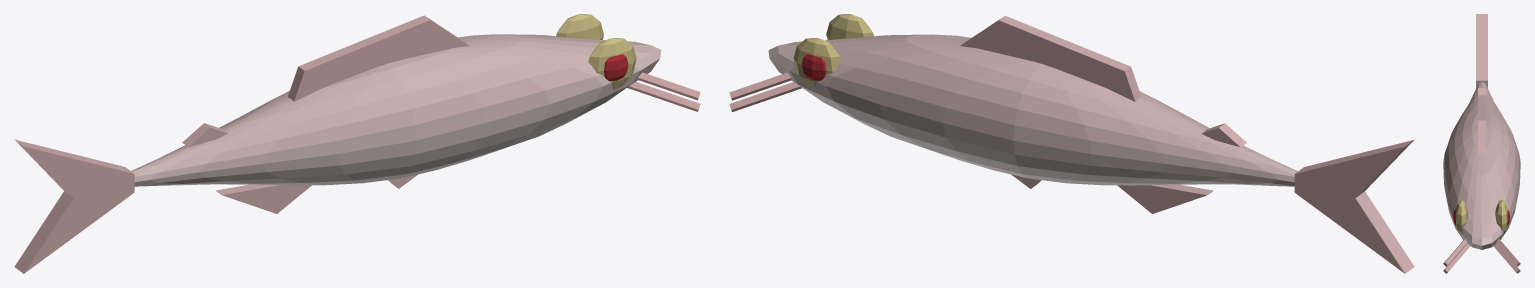
File: AlbinoCatfish.glb
3 renders of one model, left to right at view 1: azimuth 30°, elevation 25°; view 2: azimuth 150°, elevation 25°; view 3: azimuth 270°, elevation 25°, orthographic. The views are drawn at different scales.
Visible parts, largest first — view 1: AlbinoCatfish; view 2: AlbinoCatfish; view 3: AlbinoCatfish.
Part boxes in pixels (left/top/right/bottom): AlbinoCatfish: left=14, top=14, right=700, bottom=273; AlbinoCatfish: left=729, top=14, right=1414, bottom=273; AlbinoCatfish: left=1443, top=14, right=1520, bottom=273.
Bounding box in the file's own units: 7.37 × 1.74 × 1.24.
